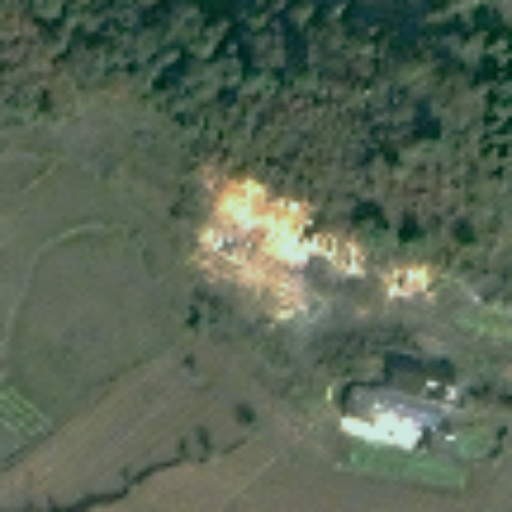landslide: (198, 176, 310, 315)
